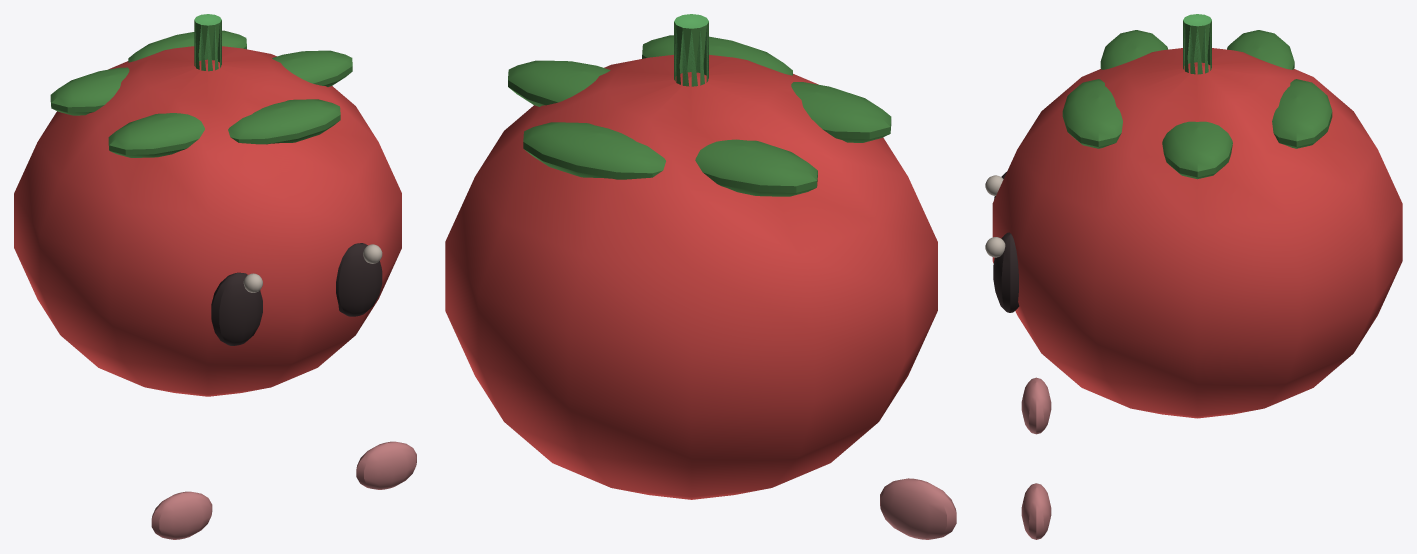
3 renders of one model, left to right at view 1: azimuth 30°, elevation 25°; view 2: azimuth 150°, elevation 25°; view 3: azimuth 270°, elevation 25°, orthographic. The views are drawn at different scales.
Visible parts, largest first — view 1: pet_p0e98100e; view 2: pet_p0e98100e; view 3: pet_p0e98100e.
Part boxes in pixels (<box>): pet_p0e98100e: <box>14,14,416,539</box>; pet_p0e98100e: <box>445,14,956,539</box>; pet_p0e98100e: <box>985,14,1402,539</box>.
Size of the model in its own units: 0.3939 by 0.4902 by 0.4008.
